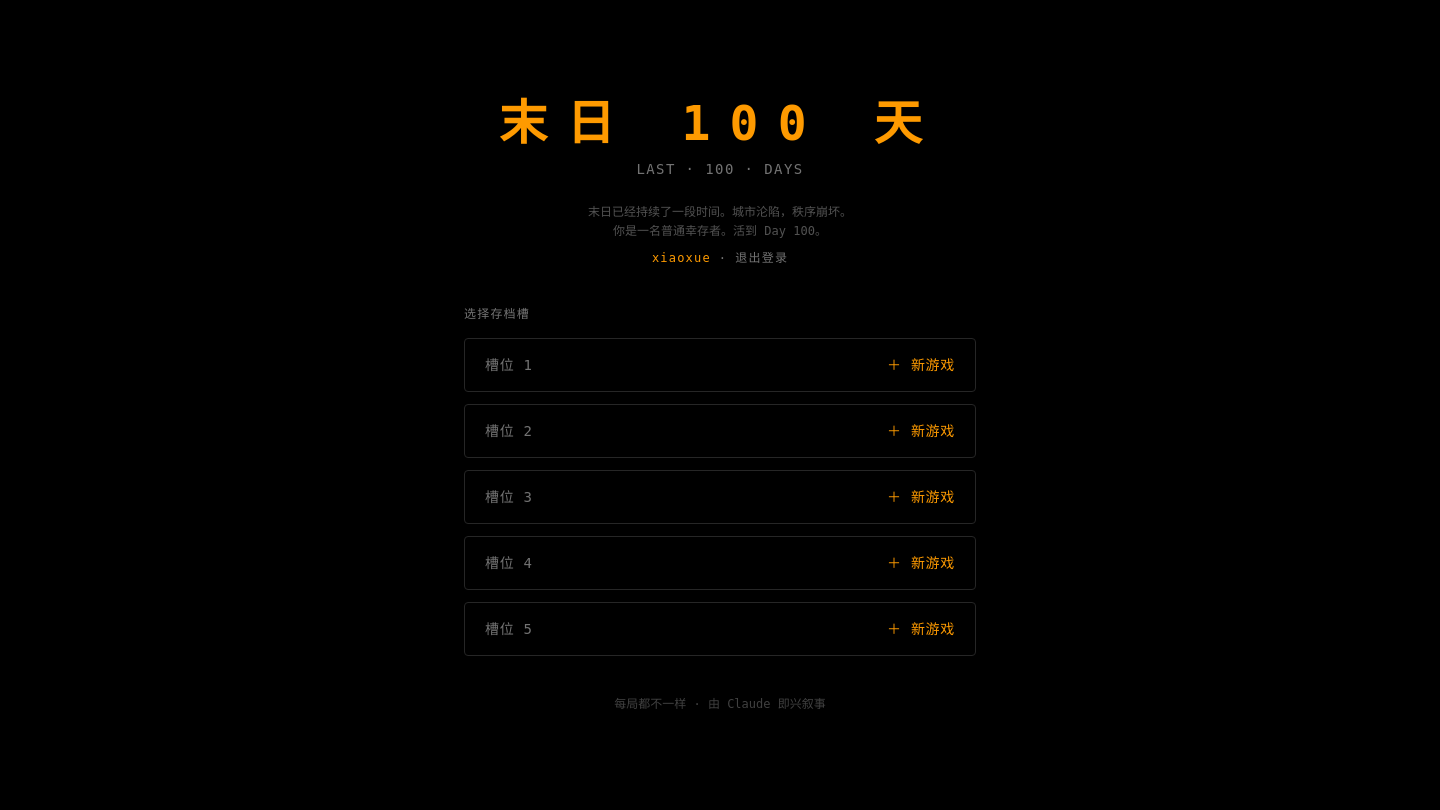
Test: App — gameplay (after login) › clicking empty slot enters game and auto-fetches first turn
Click the button with test id "slot-1": click(504, 364) 464,338 -> 976,392
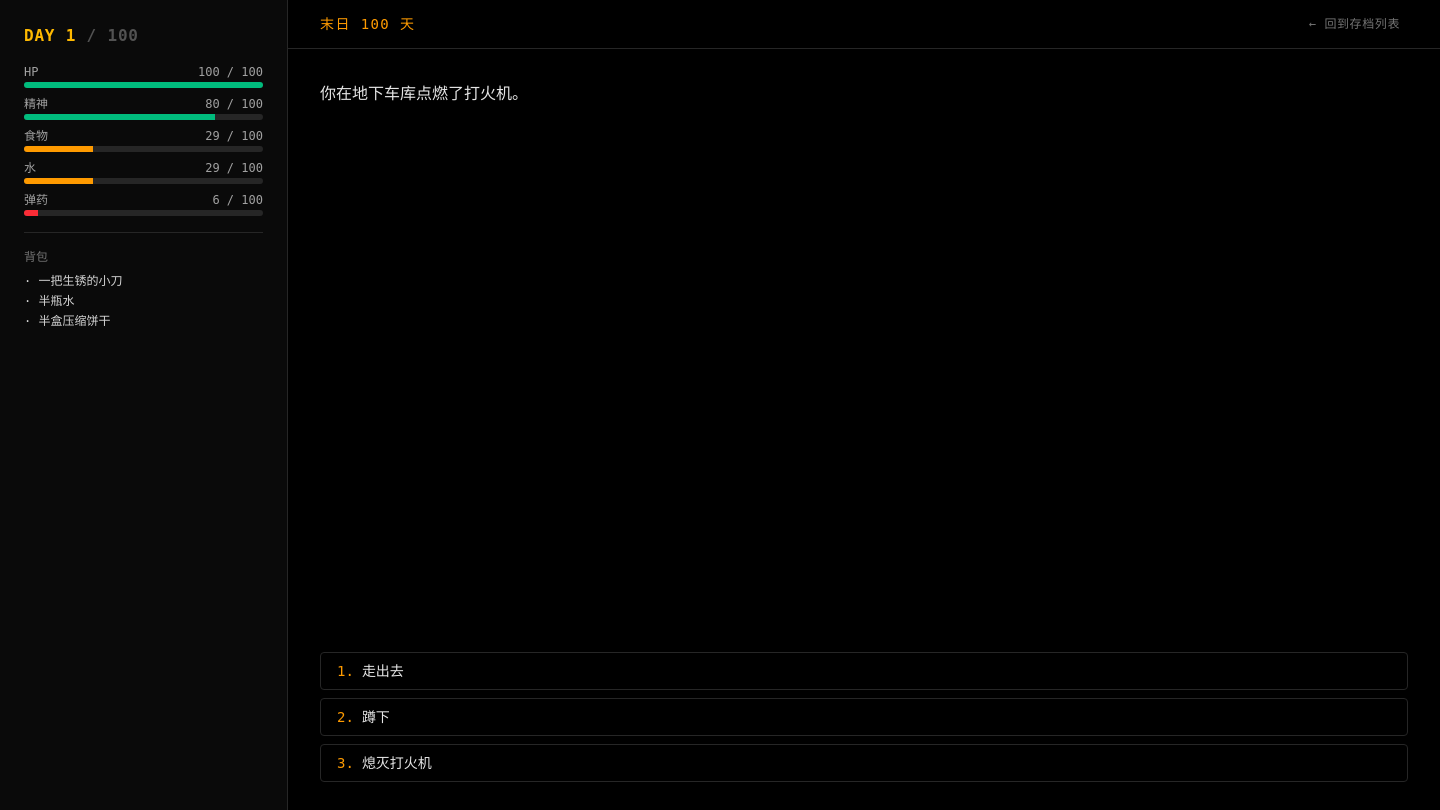
Now the text with test id "narrative-text" reads "你在地下车库点燃了打火机。", box 320,84 -> 528,103
